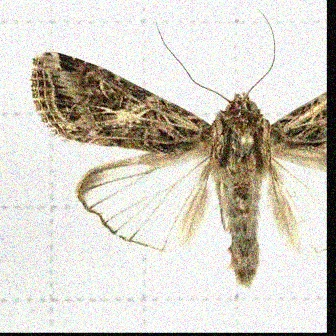Spodoptera litura: (29, 7, 326, 288)
